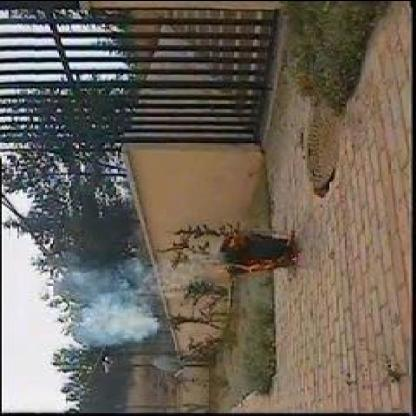-: (82, 278, 156, 345)
foggia-v2-map80-epoch100 - v1 4323: (232, 256, 284, 272)
